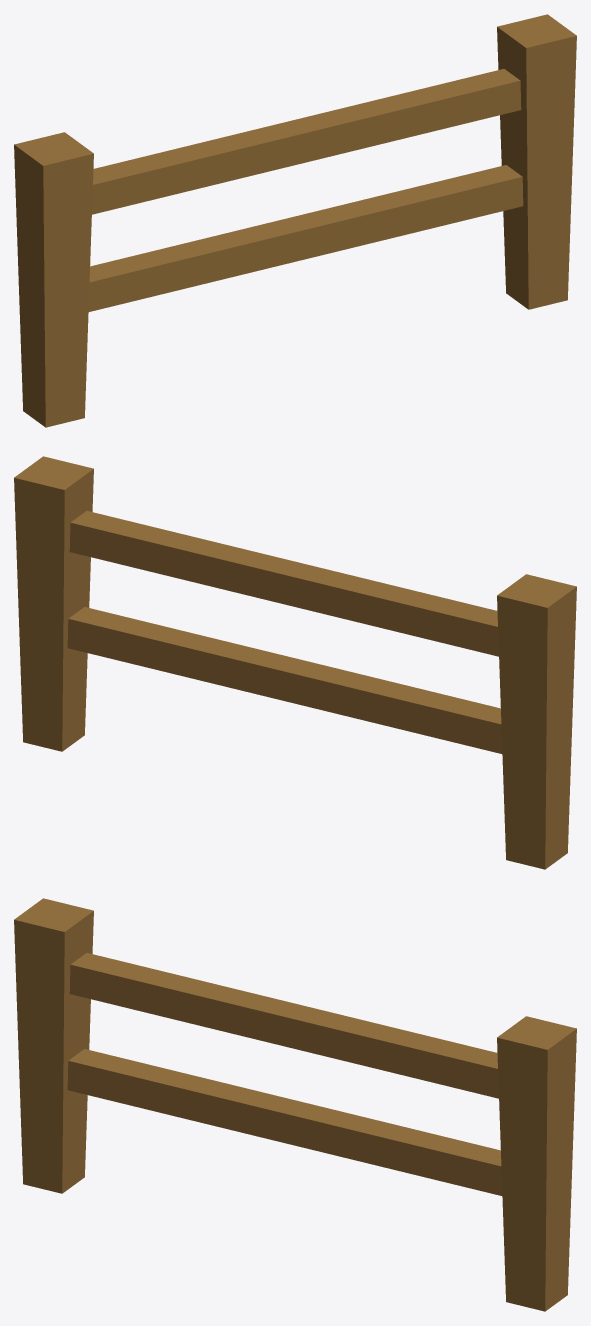
The model's file is fence.fbx.
3 renders of one model, top to bottom at view 1: azimuth 30°, elevation 25°; view 2: azimuth 150°, elevation 25°; view 3: azimuth 330°, elevation 25°, orthographic.
Parts seen in each view (by area): view 1: fence1; view 2: fence1; view 3: fence1.
Boxes of the visible parts, x1,y1,x2,y2 form: fence1: (14,14,576,427); fence1: (14,456,576,869); fence1: (14,898,576,1311).
Bounding box in the file's own units: 1.7 × 0.8101 × 0.162.
